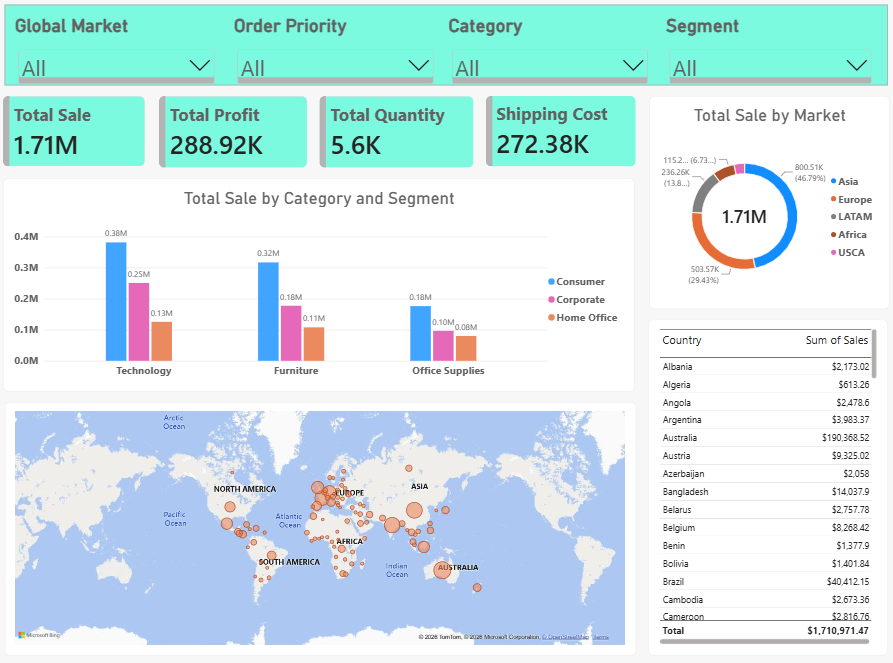

Layout of this report page (visuals, bound fields, positions):
{"tool":"powerbi","page":{"name":"Page 1","canvas":[1920,1900],"ordinal":0},"visuals":[{"type":"shape","box":[30.5,49.3,1381.9,126.7],"z":0},{"type":"slicer","title":"Global Market ","fields":{"Values":["Global_Superstore(CSV).Market"]},"box":[46.9,65.7,316.7,126.7],"z":1000},{"type":"cardVisual","fields":{"Data":["Global_Superstore(CSV).Total sale"]},"box":[28.2,192.4,222.9,110.3],"z":2000},{"type":"cardVisual","fields":{"Data":["Global_Superstore(CSV).Total Profit"]},"box":[272.2,192.4,232.3,112.6],"z":3000},{"type":"cardVisual","fields":{"Data":["Global_Superstore(CSV).total Quantity (K)"]},"box":[523.2,192.4,241.7,112.6],"z":4000},{"type":"cardVisual","fields":{"Data":["Global_Superstore(CSV).Total Shipping cost"]},"box":[783.6,192.4,234.6,110.3],"z":5000},{"type":"clusteredColumnChart","title":"Total Sale by Category and Segment","fields":{"Category":["Global_Superstore(CSV).Category"],"Y":["Global_Superstore(CSV).Total sale"],"Series":["Global_Superstore(CSV).Segment"]},"box":[28.2,321.4,987.8,333.2],"z":6000},{"type":"donutChart","title":"Total Sale by Market","fields":{"Y":["Global_Superstore(CSV).Total sale"],"Category":["Global_Superstore(CSV).Market"]},"box":[1039.4,192.4,375.4,333.2],"z":7000},{"type":"map","fields":{"Category":["Global_Superstore(CSV).Country"],"Size":["Global_Superstore(CSV).Total sale"]},"box":[30.5,671,987.8,396.5],"z":8000},{"type":"tableEx","fields":{"Values":["Global_Superstore(CSV).Country","Sum(Global_Superstore(CSV).Sales)"]},"box":[1037,542,375.4,525.6],"z":9000},{"type":"slicer","title":"Category","fields":{"Values":["Global_Superstore(CSV).Category"]},"box":[725,65.7,316.7,126.7],"z":10000},{"type":"slicer","title":"Order Priority","fields":{"Values":["Global_Superstore(CSV).Order Priority"]},"box":[389.5,65.7,316.7,126.7],"z":11000},{"type":"slicer","title":"Segment","fields":{"Values":["Global_Superstore(CSV).Segment"]},"box":[1065.2,65.7,326.1,126.7],"z":12000}]}

Visuals, with their boxes on the page's 1920x1900 design canvas (x1, y1, x2, y2). These are canvas units, not pixel positions in the 893x663 screenshot, which may show the page scaled, cropped or inside an application window:
shape: detection(30, 49, 1412, 176)
"Global Market " slicer: detection(47, 66, 364, 192)
cardVisual - Global_Superstore(CSV).Total sale: detection(28, 192, 251, 303)
cardVisual - Global_Superstore(CSV).Total Profit: detection(272, 192, 504, 305)
cardVisual - Global_Superstore(CSV).total Quantity (K): detection(523, 192, 765, 305)
cardVisual - Global_Superstore(CSV).Total Shipping cost: detection(784, 192, 1018, 303)
"Total Sale by Category and Segment" clusteredColumnChart: detection(28, 321, 1016, 655)
"Total Sale by Market" donutChart: detection(1039, 192, 1415, 526)
map - Global_Superstore(CSV).Country x Global_Superstore(CSV).Total sale: detection(30, 671, 1018, 1068)
tableEx - Global_Superstore(CSV).Country x Sum(Global_Superstore(CSV).Sales): detection(1037, 542, 1412, 1068)
"Category" slicer: detection(725, 66, 1042, 192)
"Order Priority" slicer: detection(390, 66, 706, 192)
"Segment" slicer: detection(1065, 66, 1391, 192)
